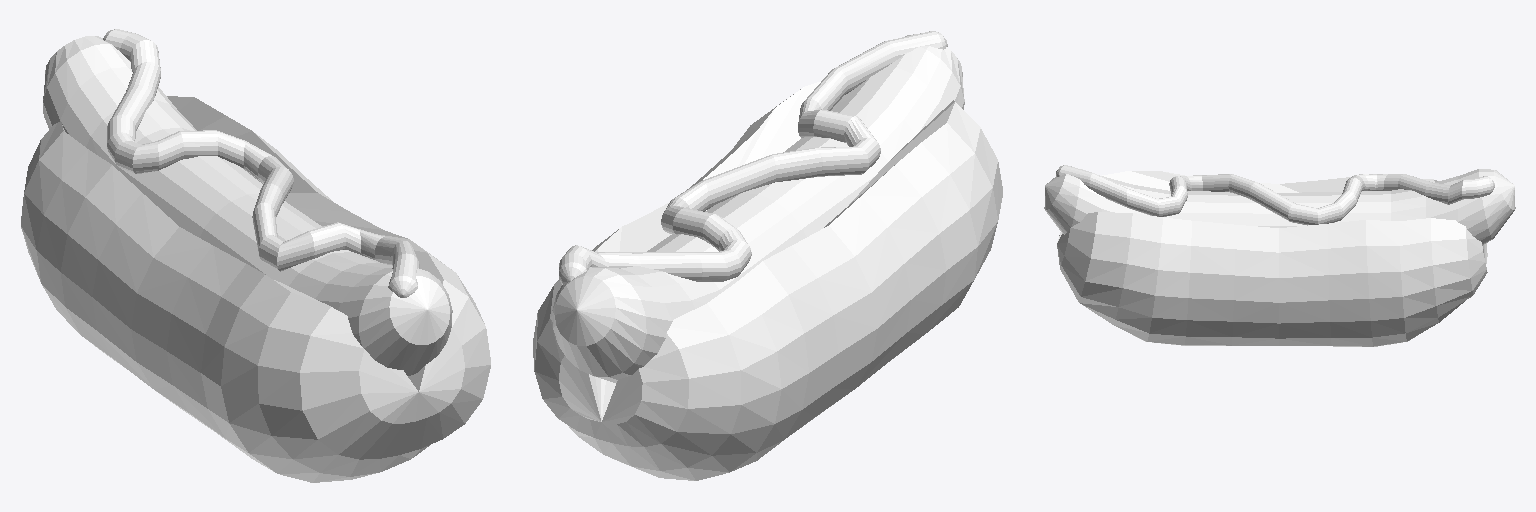
URDF robot description (hot_dog):
<?xml version="1.0"?>
<robot name="hot_dog">
  <material name="aiStandardSurface1.001">
    <texture filename="visual/image0.png" />
    <color rgba="1 1 1 1" />
  </material>

  <link name="base_link">
    <inertial>
      <origin xyz="0 0 0" rpy="0 0 0" />
      <mass value="0.5" />
      <inertia ixx="0.001" ixy="0" ixz="0" iyy="0.001" iyz="0" izz="0.001" />
    </inertial>

    <visual>
      <origin xyz="0 0 0" rpy="0 0 1.57079632679" />
      <geometry>
        <mesh filename="visual/model_normalized_0.obj" scale="0.145 0.145 0.145" />
      </geometry>
      <material name="aiStandardSurface1.001" />
    </visual>

    <collision>
      <origin xyz="0 0 0" rpy="0 0 1.57079632679" />
      <geometry>
        <mesh filename="collision/model_normalized_collision_22.obj" scale="0.145 0.145 0.145" />
      </geometry>
    </collision>
    <collision>
      <origin xyz="0 0 0" rpy="0 0 1.57079632679" />
      <geometry>
        <mesh filename="collision/model_normalized_collision_23.obj" scale="0.145 0.145 0.145" />
      </geometry>
    </collision>
    <collision>
      <origin xyz="0 0 0" rpy="0 0 1.57079632679" />
      <geometry>
        <mesh filename="collision/model_normalized_collision_21.obj" scale="0.145 0.145 0.145" />
      </geometry>
    </collision>
    <collision>
      <origin xyz="0 0 0" rpy="0 0 1.57079632679" />
      <geometry>
        <mesh filename="collision/model_normalized_collision_20.obj" scale="0.145 0.145 0.145" />
      </geometry>
    </collision>
    <collision>
      <origin xyz="0 0 0" rpy="0 0 1.57079632679" />
      <geometry>
        <mesh filename="collision/model_normalized_collision_24.obj" scale="0.145 0.145 0.145" />
      </geometry>
    </collision>
    <collision>
      <origin xyz="0 0 0" rpy="0 0 1.57079632679" />
      <geometry>
        <mesh filename="collision/model_normalized_collision_30.obj" scale="0.145 0.145 0.145" />
      </geometry>
    </collision>
    <collision>
      <origin xyz="0 0 0" rpy="0 0 1.57079632679" />
      <geometry>
        <mesh filename="collision/model_normalized_collision_18.obj" scale="0.145 0.145 0.145" />
      </geometry>
    </collision>
    <collision>
      <origin xyz="0 0 0" rpy="0 0 1.57079632679" />
      <geometry>
        <mesh filename="collision/model_normalized_collision_19.obj" scale="0.145 0.145 0.145" />
      </geometry>
    </collision>
    <collision>
      <origin xyz="0 0 0" rpy="0 0 1.57079632679" />
      <geometry>
        <mesh filename="collision/model_normalized_collision_31.obj" scale="0.145 0.145 0.145" />
      </geometry>
    </collision>
    <collision>
      <origin xyz="0 0 0" rpy="0 0 1.57079632679" />
      <geometry>
        <mesh filename="collision/model_normalized_collision_25.obj" scale="0.145 0.145 0.145" />
      </geometry>
    </collision>
    <collision>
      <origin xyz="0 0 0" rpy="0 0 1.57079632679" />
      <geometry>
        <mesh filename="collision/model_normalized_collision_27.obj" scale="0.145 0.145 0.145" />
      </geometry>
    </collision>
    <collision>
      <origin xyz="0 0 0" rpy="0 0 1.57079632679" />
      <geometry>
        <mesh filename="collision/model_normalized_collision_26.obj" scale="0.145 0.145 0.145" />
      </geometry>
    </collision>
    <collision>
      <origin xyz="0 0 0" rpy="0 0 1.57079632679" />
      <geometry>
        <mesh filename="collision/model_normalized_collision_9.obj" scale="0.145 0.145 0.145" />
      </geometry>
    </collision>
    <collision>
      <origin xyz="0 0 0" rpy="0 0 1.57079632679" />
      <geometry>
        <mesh filename="collision/model_normalized_collision_8.obj" scale="0.145 0.145 0.145" />
      </geometry>
    </collision>
    <collision>
      <origin xyz="0 0 0" rpy="0 0 1.57079632679" />
      <geometry>
        <mesh filename="collision/model_normalized_collision_6.obj" scale="0.145 0.145 0.145" />
      </geometry>
    </collision>
    <collision>
      <origin xyz="0 0 0" rpy="0 0 1.57079632679" />
      <geometry>
        <mesh filename="collision/model_normalized_collision_7.obj" scale="0.145 0.145 0.145" />
      </geometry>
    </collision>
    <collision>
      <origin xyz="0 0 0" rpy="0 0 1.57079632679" />
      <geometry>
        <mesh filename="collision/model_normalized_collision_5.obj" scale="0.145 0.145 0.145" />
      </geometry>
    </collision>
    <collision>
      <origin xyz="0 0 0" rpy="0 0 1.57079632679" />
      <geometry>
        <mesh filename="collision/model_normalized_collision_4.obj" scale="0.145 0.145 0.145" />
      </geometry>
    </collision>
    <collision>
      <origin xyz="0 0 0" rpy="0 0 1.57079632679" />
      <geometry>
        <mesh filename="collision/model_normalized_collision_0.obj" scale="0.145 0.145 0.145" />
      </geometry>
    </collision>
    <collision>
      <origin xyz="0 0 0" rpy="0 0 1.57079632679" />
      <geometry>
        <mesh filename="collision/model_normalized_collision_1.obj" scale="0.145 0.145 0.145" />
      </geometry>
    </collision>
    <collision>
      <origin xyz="0 0 0" rpy="0 0 1.57079632679" />
      <geometry>
        <mesh filename="collision/model_normalized_collision_3.obj" scale="0.145 0.145 0.145" />
      </geometry>
    </collision>
    <collision>
      <origin xyz="0 0 0" rpy="0 0 1.57079632679" />
      <geometry>
        <mesh filename="collision/model_normalized_collision_2.obj" scale="0.145 0.145 0.145" />
      </geometry>
    </collision>
    <collision>
      <origin xyz="0 0 0" rpy="0 0 1.57079632679" />
      <geometry>
        <mesh filename="collision/model_normalized_collision_17.obj" scale="0.145 0.145 0.145" />
      </geometry>
    </collision>
    <collision>
      <origin xyz="0 0 0" rpy="0 0 1.57079632679" />
      <geometry>
        <mesh filename="collision/model_normalized_collision_16.obj" scale="0.145 0.145 0.145" />
      </geometry>
    </collision>
    <collision>
      <origin xyz="0 0 0" rpy="0 0 1.57079632679" />
      <geometry>
        <mesh filename="collision/model_normalized_collision_28.obj" scale="0.145 0.145 0.145" />
      </geometry>
    </collision>
    <collision>
      <origin xyz="0 0 0" rpy="0 0 1.57079632679" />
      <geometry>
        <mesh filename="collision/model_normalized_collision_14.obj" scale="0.145 0.145 0.145" />
      </geometry>
    </collision>
    <collision>
      <origin xyz="0 0 0" rpy="0 0 1.57079632679" />
      <geometry>
        <mesh filename="collision/model_normalized_collision_15.obj" scale="0.145 0.145 0.145" />
      </geometry>
    </collision>
    <collision>
      <origin xyz="0 0 0" rpy="0 0 1.57079632679" />
      <geometry>
        <mesh filename="collision/model_normalized_collision_29.obj" scale="0.145 0.145 0.145" />
      </geometry>
    </collision>
    <collision>
      <origin xyz="0 0 0" rpy="0 0 1.57079632679" />
      <geometry>
        <mesh filename="collision/model_normalized_collision_11.obj" scale="0.145 0.145 0.145" />
      </geometry>
    </collision>
    <collision>
      <origin xyz="0 0 0" rpy="0 0 1.57079632679" />
      <geometry>
        <mesh filename="collision/model_normalized_collision_10.obj" scale="0.145 0.145 0.145" />
      </geometry>
    </collision>
    <collision>
      <origin xyz="0 0 0" rpy="0 0 1.57079632679" />
      <geometry>
        <mesh filename="collision/model_normalized_collision_12.obj" scale="0.145 0.145 0.145" />
      </geometry>
    </collision>
    <collision>
      <origin xyz="0 0 0" rpy="0 0 1.57079632679" />
      <geometry>
        <mesh filename="collision/model_normalized_collision_13.obj" scale="0.145 0.145 0.145" />
      </geometry>
    </collision>
  </link>
</robot>

--- Render facts (derived) ---
The picture shows the robot from 3 angles, left to right: view 1: azimuth 30°, elevation 25°; view 2: azimuth 150°, elevation 25°; view 3: azimuth 270°, elevation 25°; orthographic projection.
Model hot_dog with 1 links and 0 joints (none), rooted at base_link, posed every joint at zero.
Visible links, largest first — view 1: base_link; view 2: base_link; view 3: base_link.
Link boxes in pixels (box(x1,y1,x2,y2)): base_link: box(21, 29, 490, 482); base_link: box(533, 31, 1002, 480); base_link: box(1044, 165, 1515, 346).
Bounding box of the posed robot: 0.0569 × 0.145 × 0.0579 m (x, y, z).
Meshes: 1 distinct files referenced, 1 mesh visuals loaded (1 OBJ).